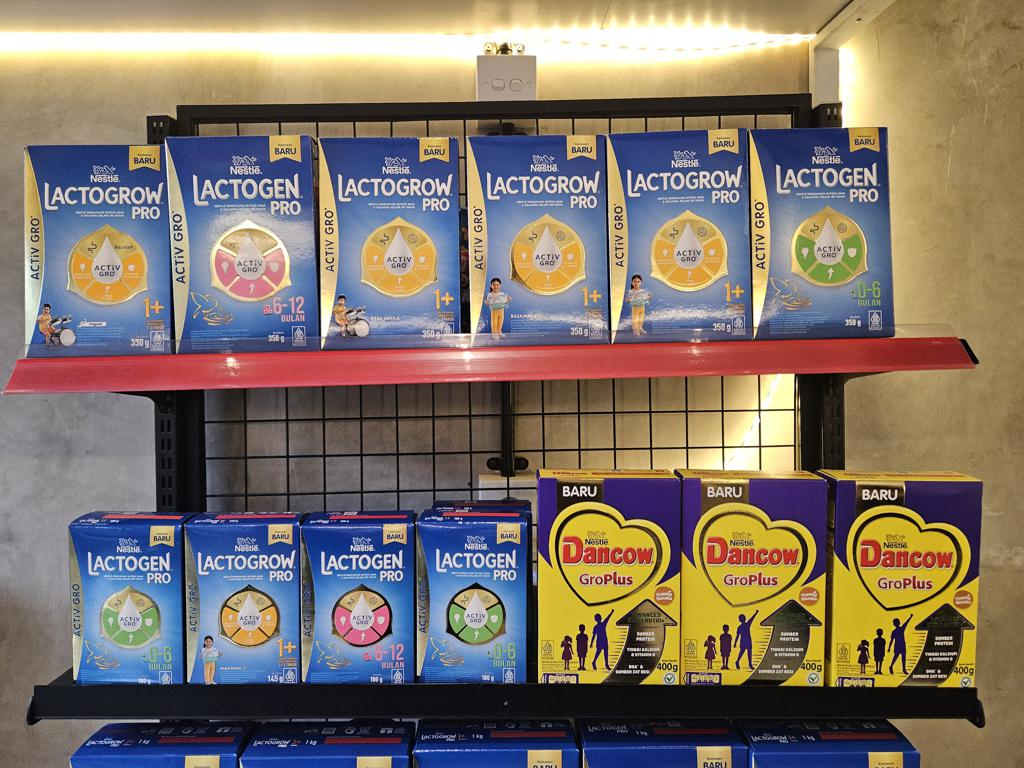LACTOGEN PRO 0-6 mo 24x350g ID: (748, 125, 897, 340)
LACTOGEN PRO 0-6 mo 40x180g ID: (409, 520, 531, 686), (66, 519, 186, 686)
LACTOGEN PRO 6-12 mo 40x180g ID: (298, 522, 414, 686)
LACTOGROW PRO 1+ Honey 24x350g ID: (316, 133, 466, 349), (605, 129, 753, 344), (464, 131, 611, 346)
LACTOGROW PRO 1+ Honey 40x145g ID: (183, 520, 303, 687)
